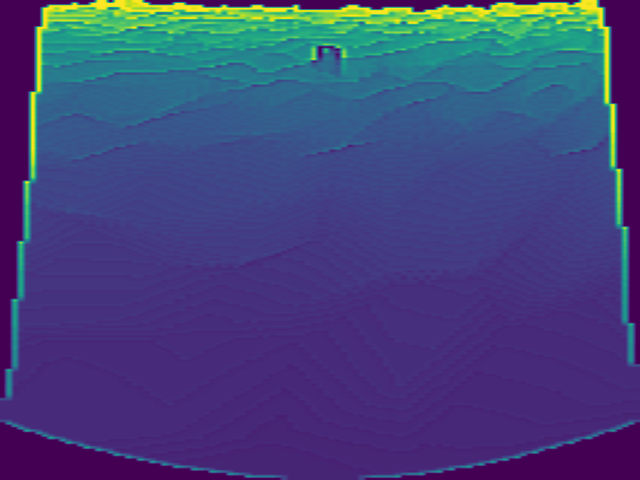car_0198: (311, 42, 344, 75)
